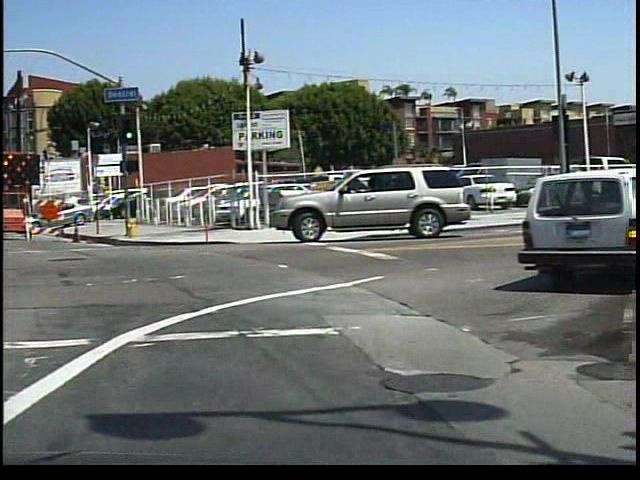person: (574, 162, 594, 206)
